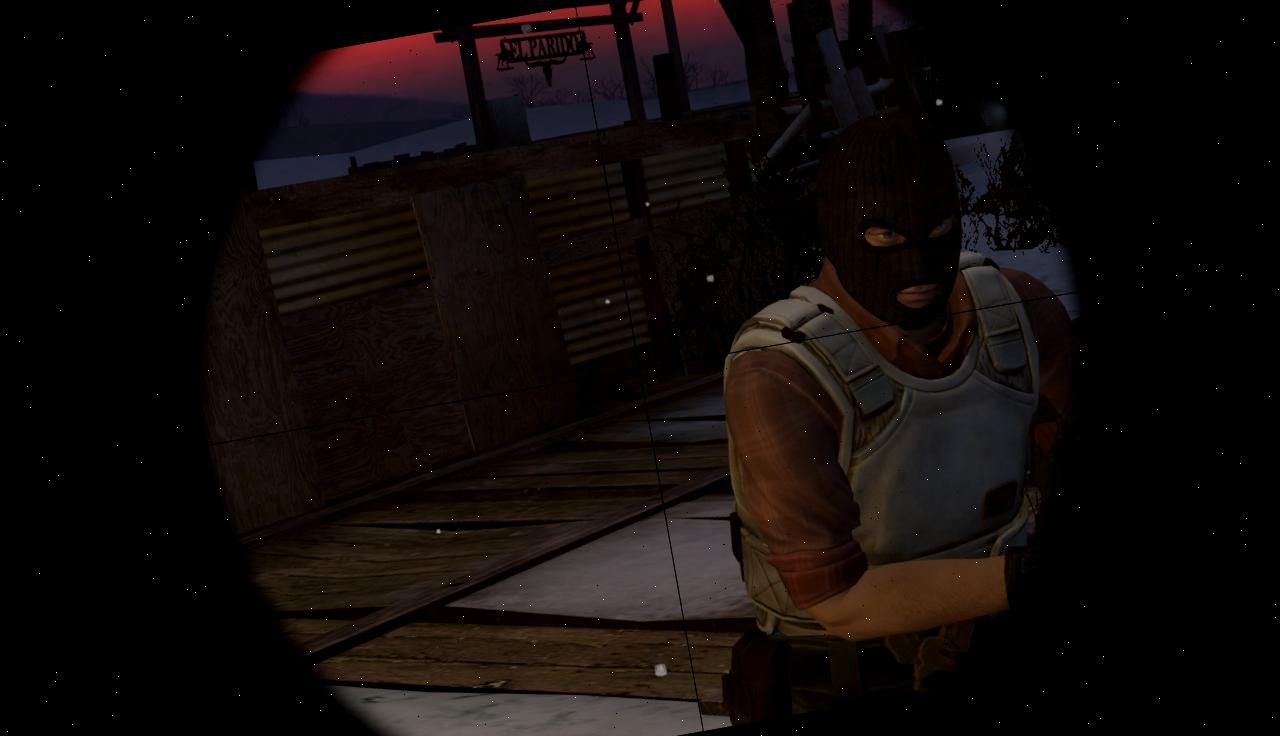tt: (680, 93, 1130, 716)
tthead: (800, 112, 979, 334)
